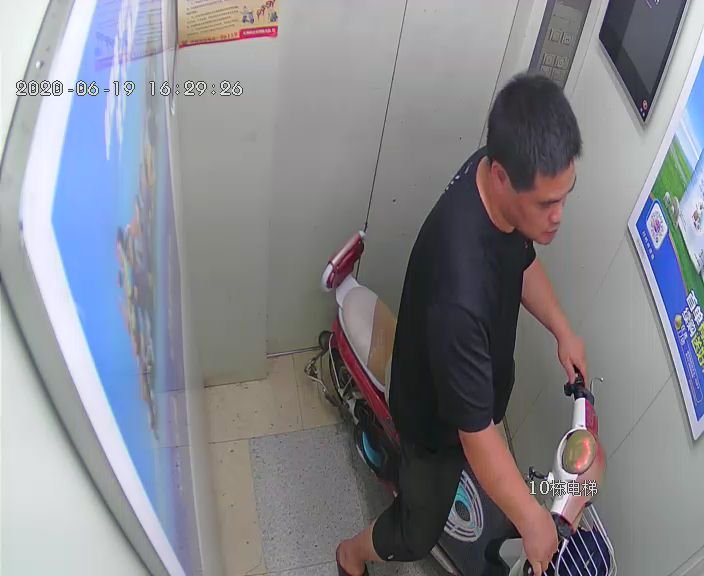Electric-bicycle: (320, 233, 609, 576)
